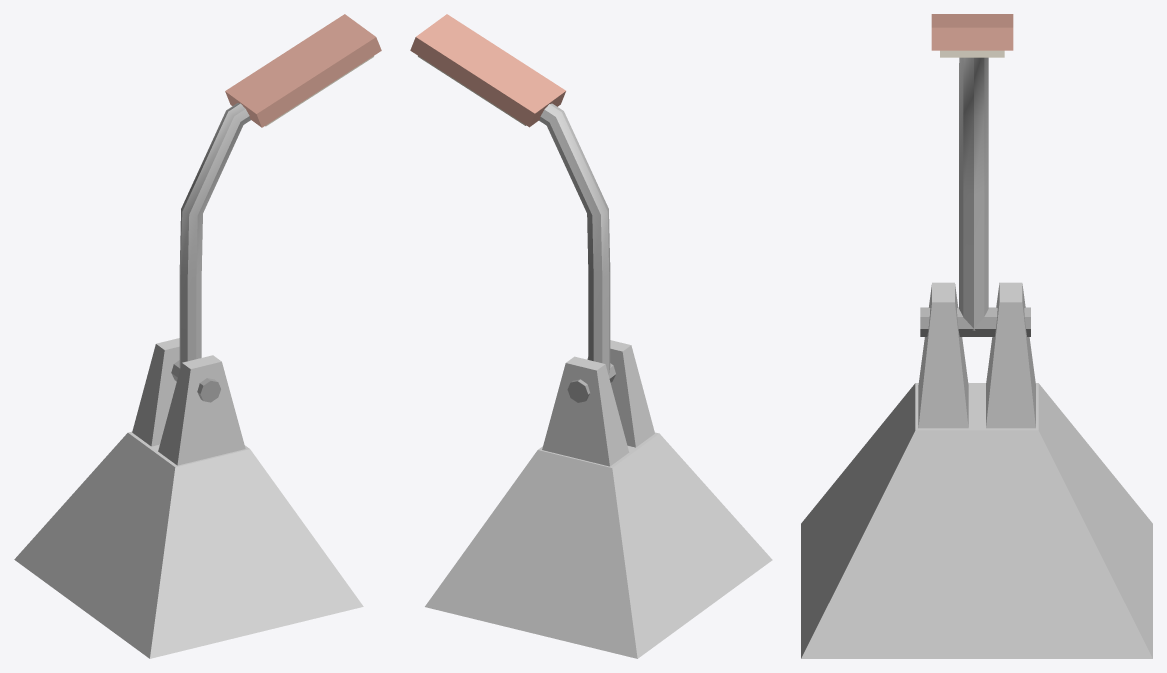
File: lamp.fbx
3 renders of one model, left to right at view 1: azimuth 30°, elevation 25°; view 2: azimuth 150°, elevation 25°; view 3: azimuth 270°, elevation 25°, orthographic. The views are drawn at different scales.
Visible parts, largest first — view 1: Cylinder_2, Cylinder; view 2: Cylinder_2, Cylinder; view 3: Cylinder_2, Cylinder.
Boxes of the visible parts, x1=… form: Cylinder_2: x1=14, y1=338, x2=363, y2=658; Cylinder: x1=179, y1=14, x2=381, y2=368; Cylinder_2: x1=425, y1=340, x2=772, y2=658; Cylinder: x1=410, y1=14, x2=610, y2=375; Cylinder_2: x1=801, y1=282, x2=1152, y2=658; Cylinder: x1=931, y1=14, x2=1013, y2=330.
Bounding box in the file's own units: 77.57 × 136 × 64.59.
